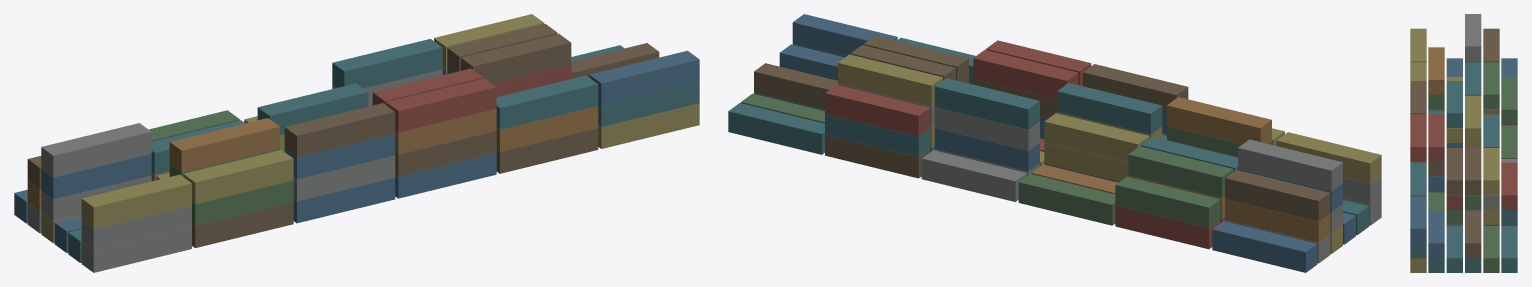
Rendered from container_stack_2.glb.
The picture shows the model from 3 angles, left to right: view 1: azimuth 30°, elevation 25°; view 2: azimuth 150°, elevation 25°; view 3: azimuth 270°, elevation 25°; orthographic projection. The views are drawn at different scales.
Parts seen in each view (by area): view 1: LOD0; view 2: LOD0; view 3: LOD0.
Part boxes in pixels (<box>): LOD0: <box>14,14,699,272</box>; LOD0: <box>728,14,1381,272</box>; LOD0: <box>1410,14,1517,272</box>.
Size of what is drawn, in the model's own units: 75.2 by 10.38 by 17.1.
